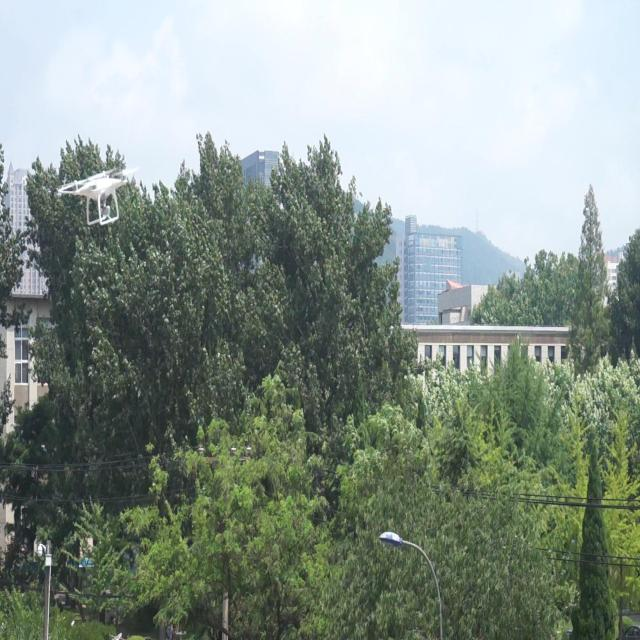drone: (57, 163, 146, 234)
